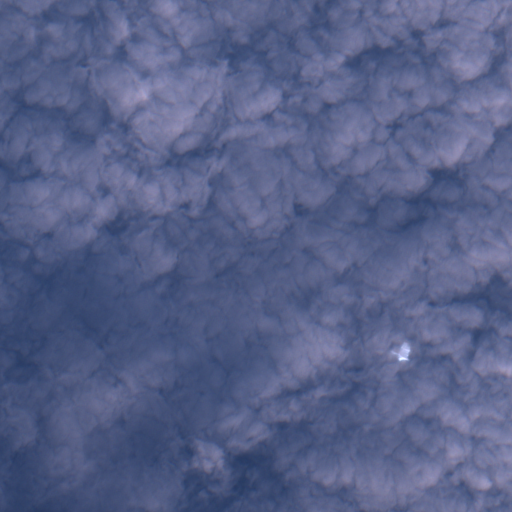Iceberg: (391, 342, 409, 361)
